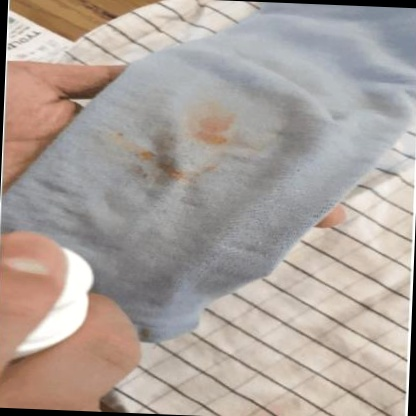kimchi: (193, 103, 233, 155), (109, 128, 160, 161), (151, 152, 181, 180), (127, 161, 151, 185), (199, 158, 222, 178)
